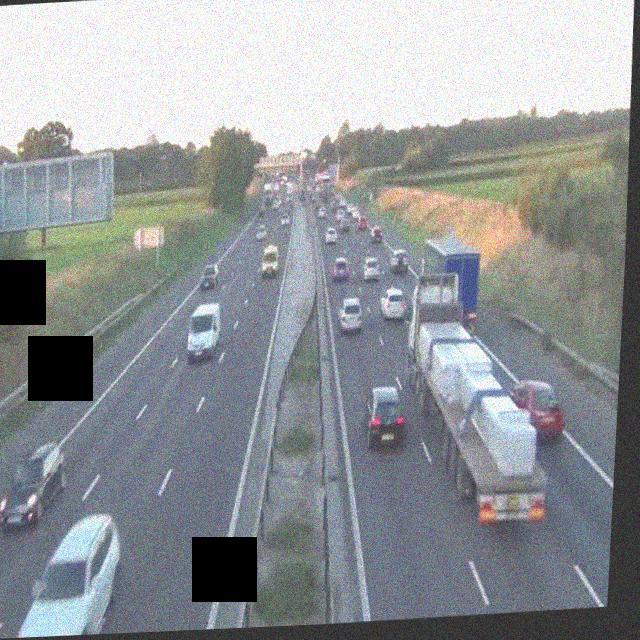car: (12, 511, 124, 638), (0, 441, 67, 531), (508, 378, 565, 445), (363, 383, 408, 448), (186, 300, 224, 360), (379, 285, 408, 320), (337, 297, 364, 332), (199, 263, 219, 289), (389, 249, 409, 274), (362, 256, 381, 281), (331, 255, 350, 280), (336, 217, 349, 234), (371, 226, 384, 242), (325, 227, 338, 243), (256, 227, 267, 242), (280, 213, 290, 227), (317, 205, 327, 218)
truck: (398, 265, 561, 528), (421, 236, 482, 324), (264, 183, 275, 207)
